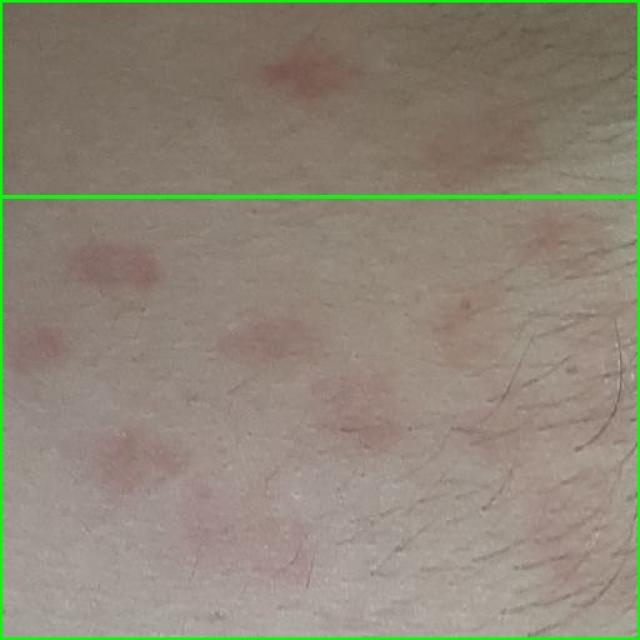Tinea Corporis: (0, 196, 639, 639), (0, 0, 639, 198)
